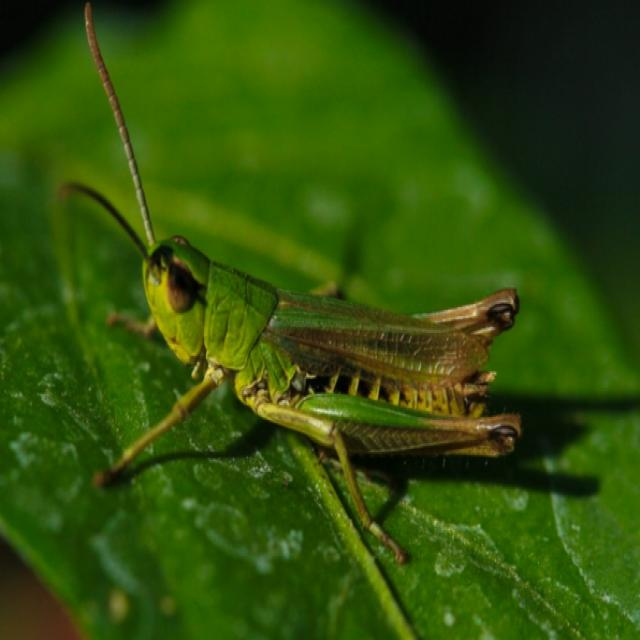ZhaMeng: (73, 182, 551, 503)
